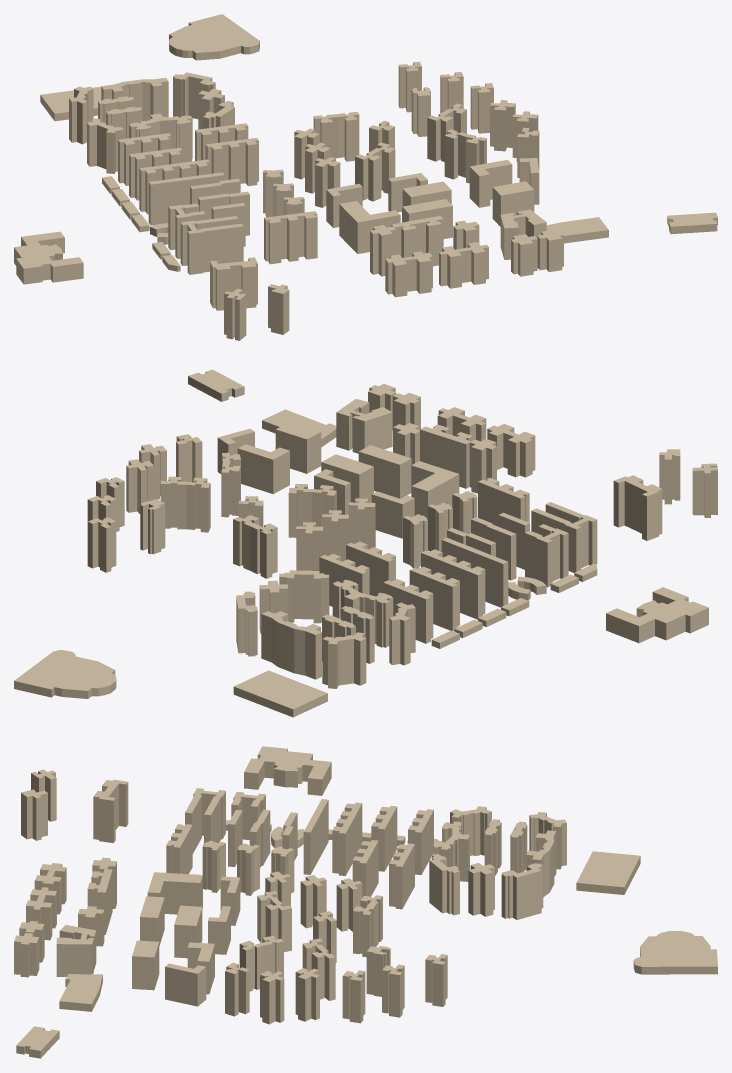
File: -21_20-estimated-coarse.glb
The picture shows the model from 3 angles, top to bottom: view 1: azimuth 30°, elevation 25°; view 2: azimuth 150°, elevation 25°; view 3: azimuth 270°, elevation 25°; orthographic projection. The views are drawn at different scales.
Size of the model in its own units: 987 by 66 by 992.
